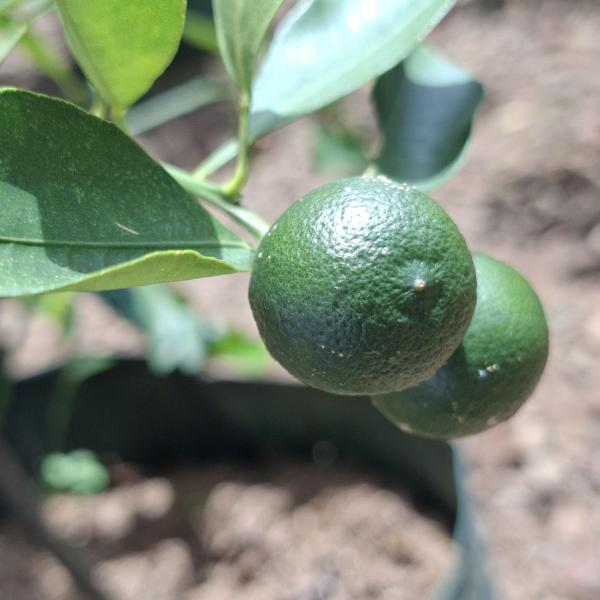Scab: (235, 161, 475, 400), (362, 236, 570, 456)
